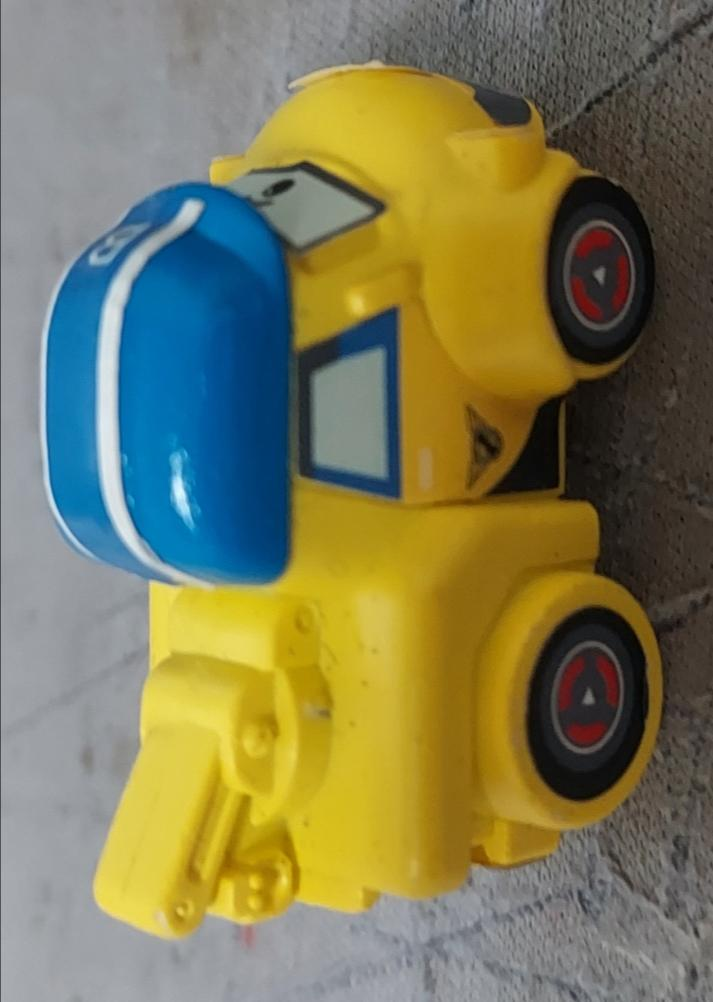car: (1, 0, 713, 1002)
